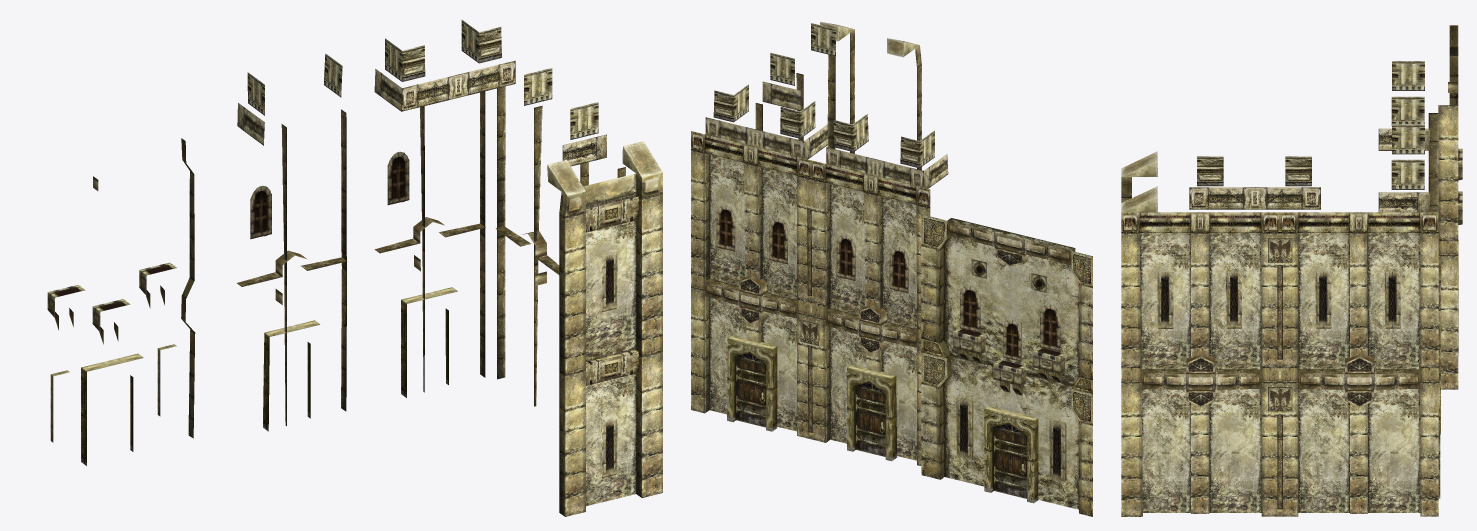
File: OZ_09_wv_bldg01AD.glb
The picture shows the model from 3 angles, left to right: view 1: azimuth 30°, elevation 25°; view 2: azimuth 150°, elevation 25°; view 3: azimuth 270°, elevation 25°; orthographic projection. The views are drawn at different scales.
Parts seen in each view (by area): view 1: OM_09_wv_bldg01AD; view 2: OM_09_wv_bldg01AD; view 3: OM_09_wv_bldg01AD.
Boxes of the visible parts, x1,y1,x2,y2 form: OM_09_wv_bldg01AD: (47,19,662,516); OM_09_wv_bldg01AD: (691,21,1092,516); OM_09_wv_bldg01AD: (1121,25,1462,516).
Size of the model in its own units: 15.76 by 11.74 by 10.37.
9 materials, 9 textured.
